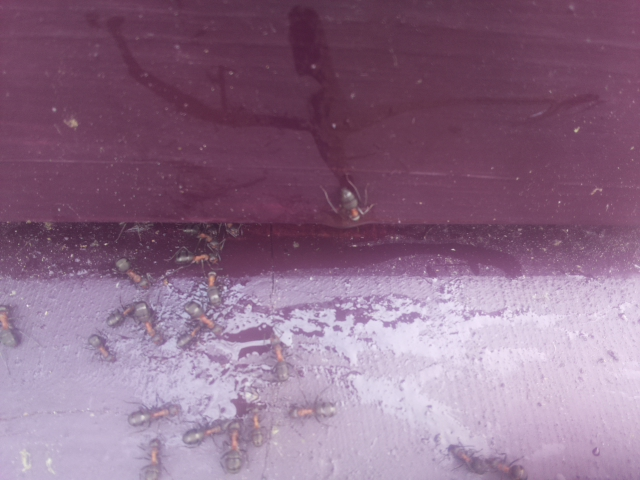ant: (175, 292, 232, 346), (177, 410, 246, 451), (125, 294, 170, 355), (119, 394, 186, 431), (333, 175, 372, 231), (216, 421, 251, 480), (105, 253, 155, 293), (442, 442, 494, 476), (482, 450, 535, 480), (281, 398, 341, 423), (266, 328, 291, 387), (107, 302, 152, 332), (83, 329, 117, 364), (139, 434, 164, 480), (0, 305, 23, 348), (203, 264, 223, 310), (247, 410, 268, 449), (168, 251, 223, 265)
